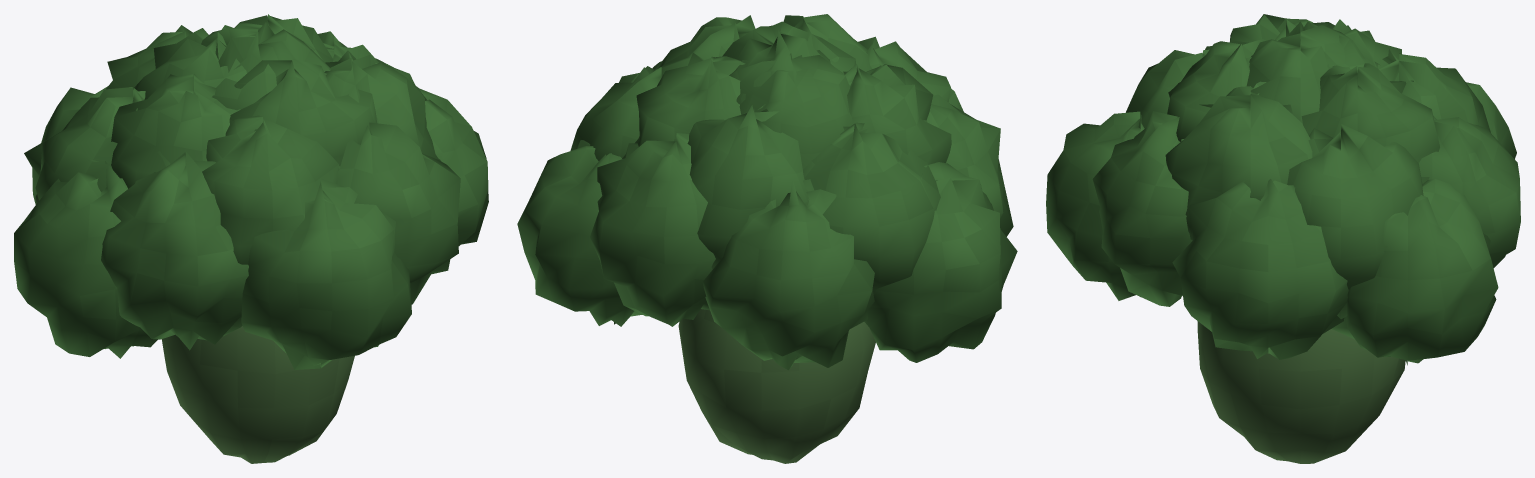
The model's file is Broccoli.glb.
The picture shows the model from 3 angles, left to right: view 1: azimuth 30°, elevation 25°; view 2: azimuth 150°, elevation 25°; view 3: azimuth 270°, elevation 25°; orthographic projection.
Parts seen in each view (by area): view 1: Broccoli; view 2: Broccoli; view 3: Broccoli.
Part boxes in pixels (x1,y1,x2,y2): Broccoli: [14, 14, 488, 463]; Broccoli: [517, 14, 1017, 463]; Broccoli: [1046, 14, 1520, 463].
Size of what is drawn, in the model's own units: 0.0998 by 0.0932 by 0.0941.
